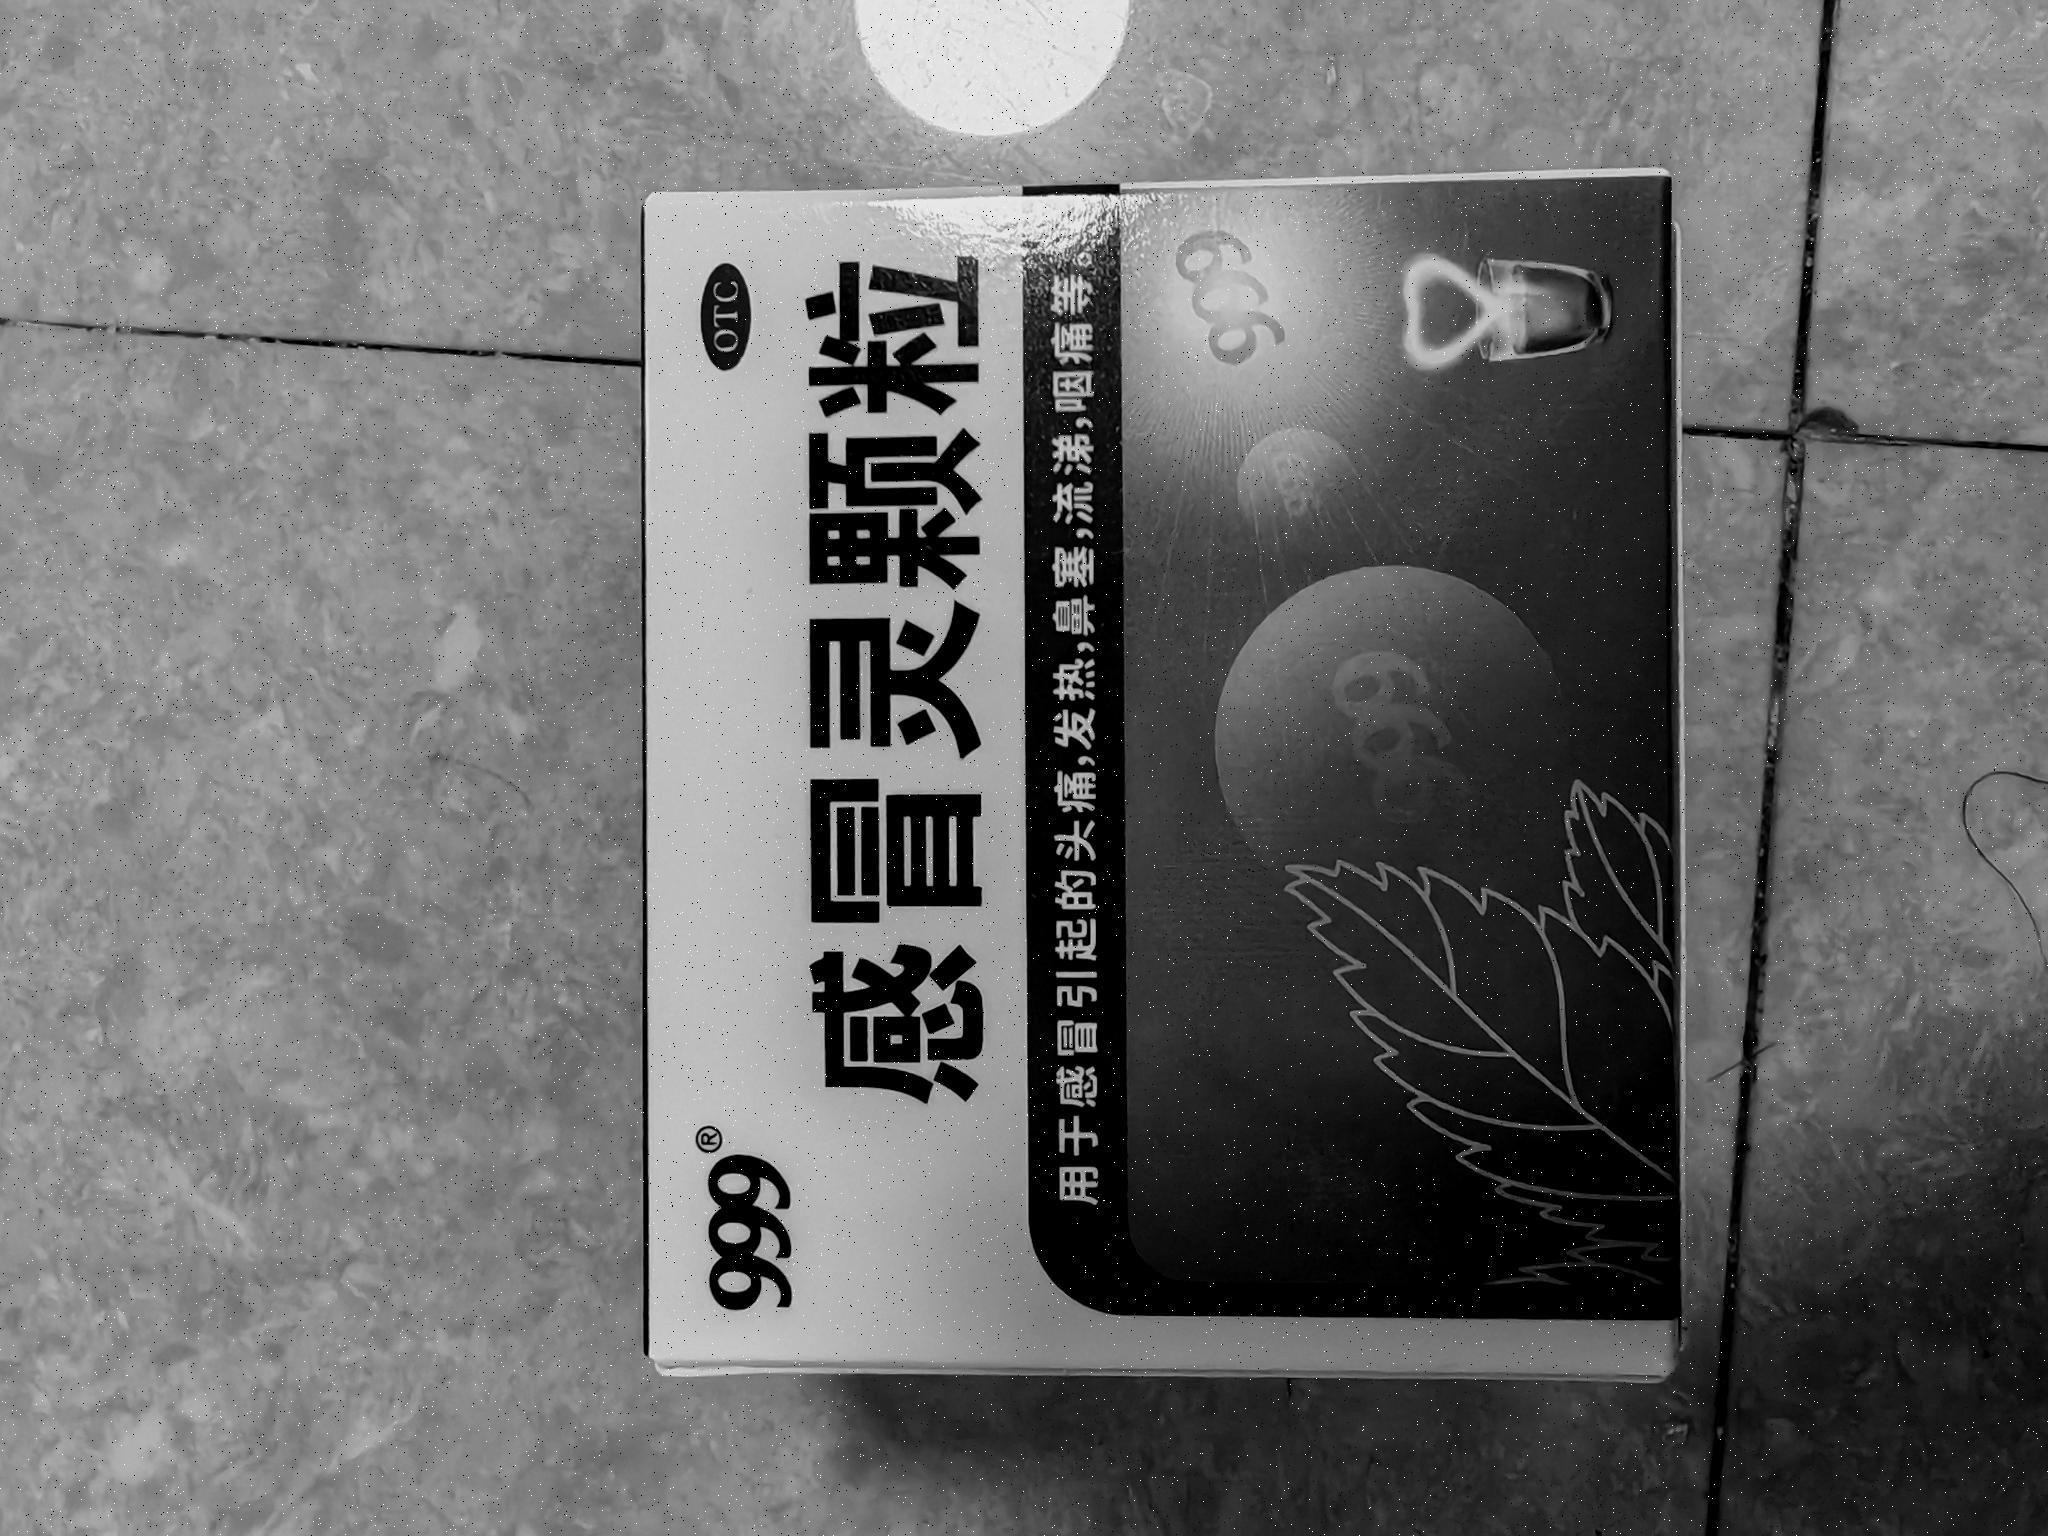Medicine3: (619, 158, 1705, 1430)
